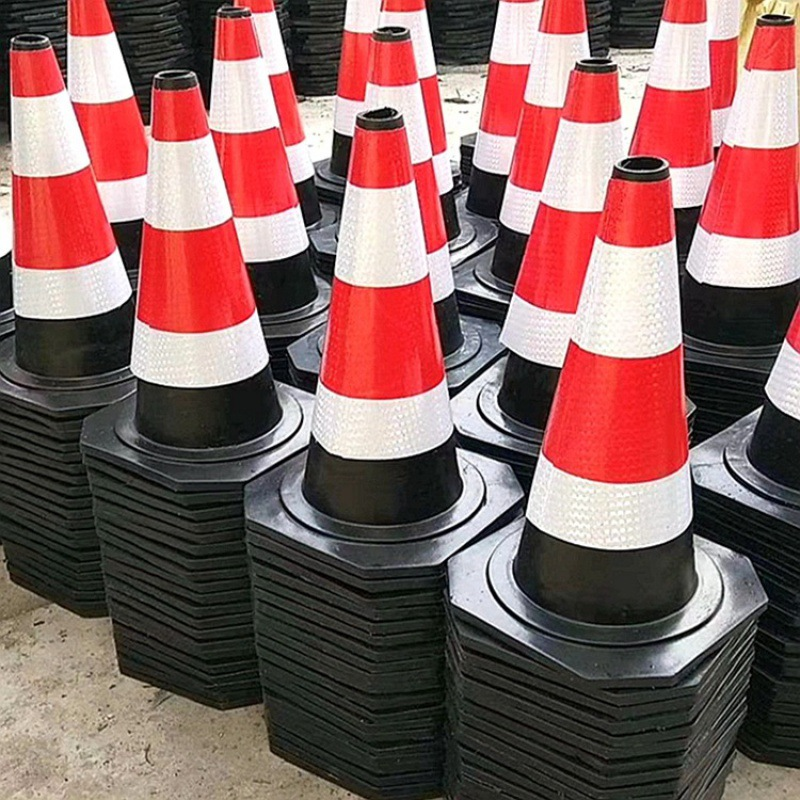traffic_cone: (499, 146, 763, 702), (284, 89, 503, 590), (123, 58, 304, 477), (1, 28, 148, 410)
